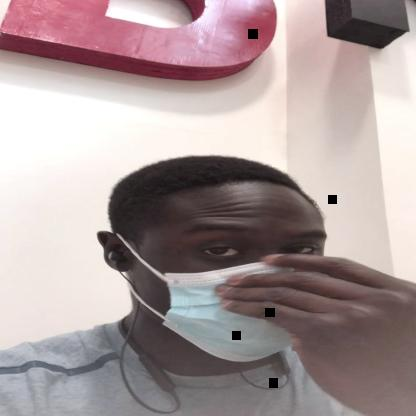mask: (117, 191, 328, 362)
